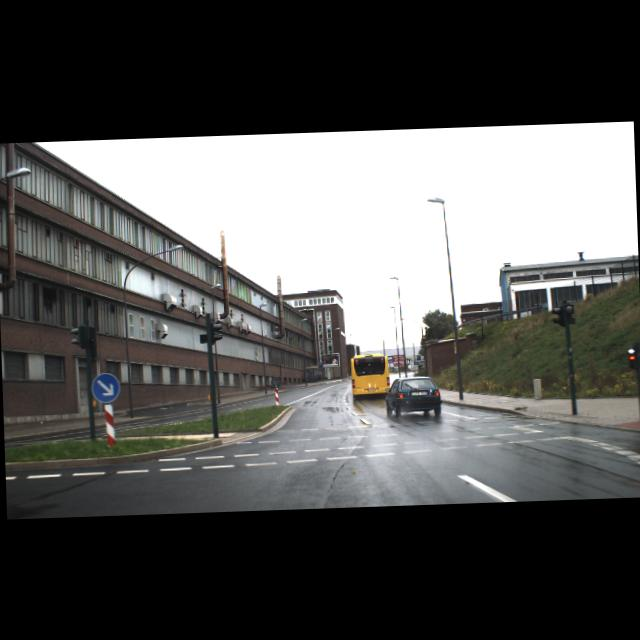mandatory: (90, 372, 120, 403)
